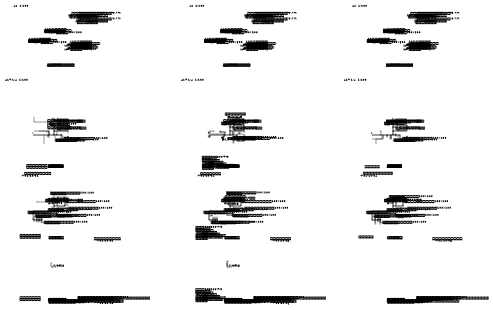wall: (395, 238, 399, 240), (192, 238, 195, 240), (4, 280, 5, 282), (224, 280, 225, 282), (476, 276, 477, 278), (476, 272, 477, 274), (53, 276, 53, 278), (53, 272, 53, 274), (24, 291, 25, 291), (273, 276, 273, 278), (273, 272, 273, 274), (244, 291, 245, 291), (428, 280, 428, 282), (448, 291, 448, 291)
